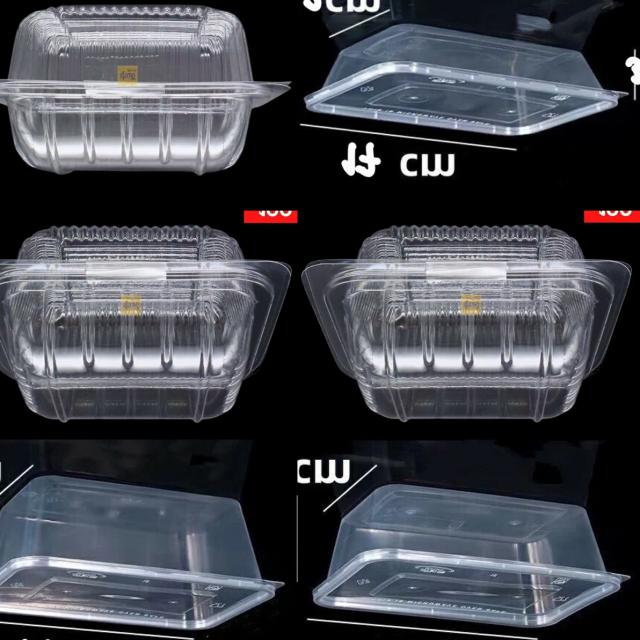plastik: (303, 226, 630, 420), (0, 227, 290, 422), (0, 6, 288, 175), (312, 485, 627, 627), (0, 475, 280, 630), (306, 24, 623, 135)
